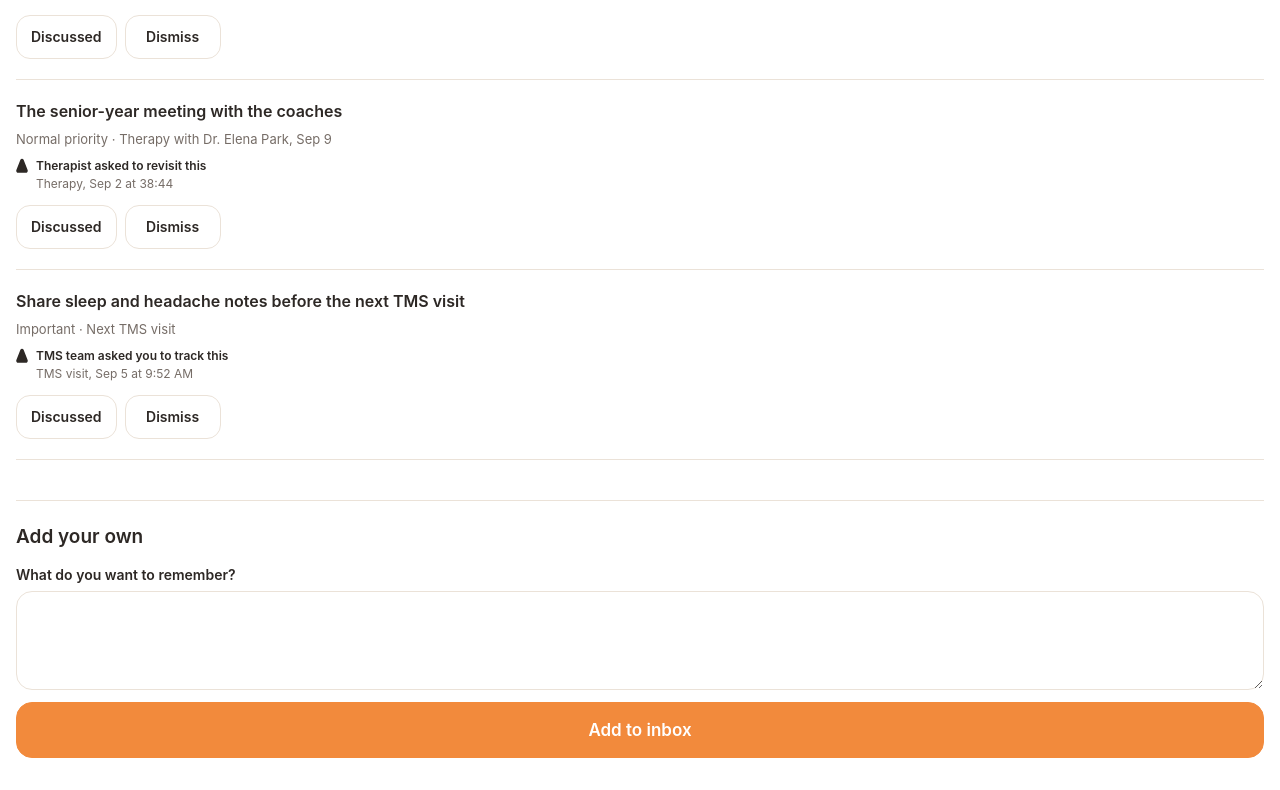
Test: BringUpScreen › adds one manual user item and prevents a duplicate entry form
This screenshot has width=1280, height=790.
(page scrolled)
Type "Ask whether exercise belongs in the plan" into the text box labelled "What do you want to remember?".
click(640, 640); type("Ask whether exercise belongs in the plan")  # box [16,590,1264,690]
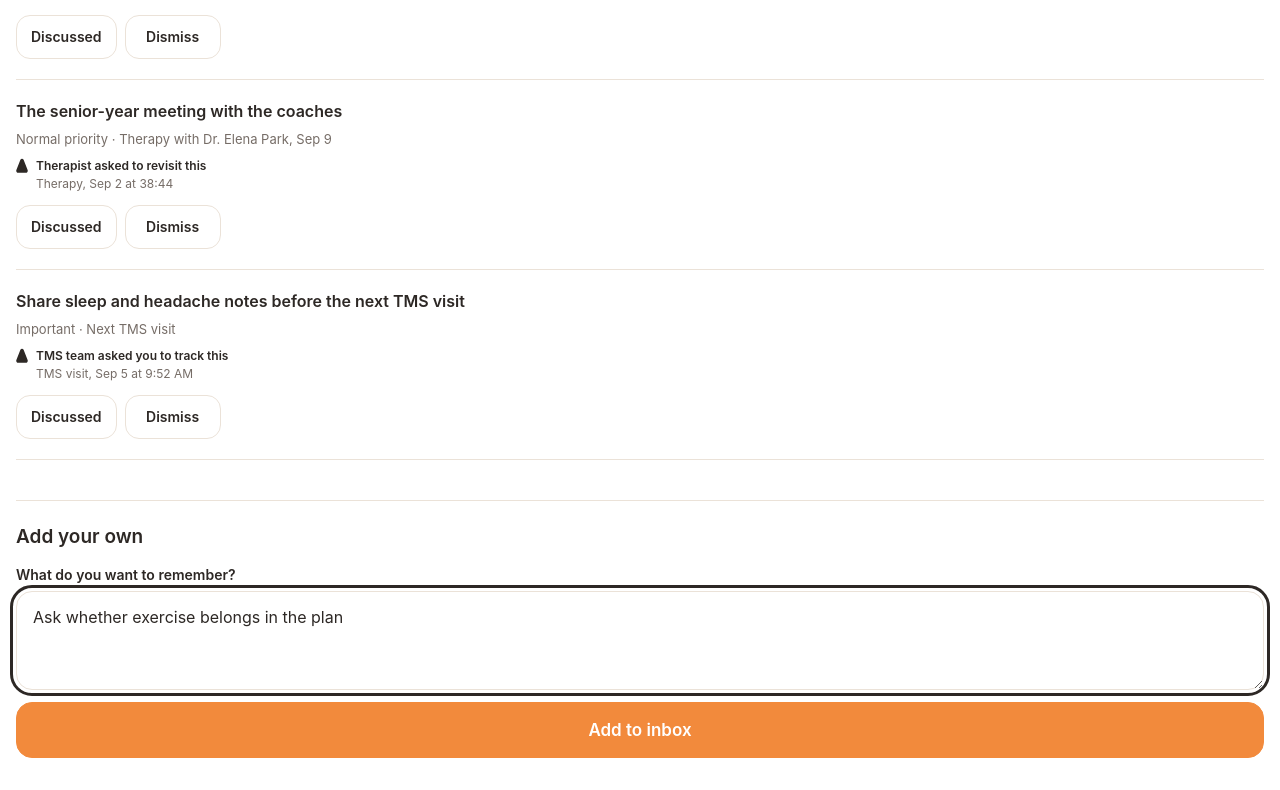
Click the button "Add to inbox".
click(640, 730)  # box [16,702,1264,758]
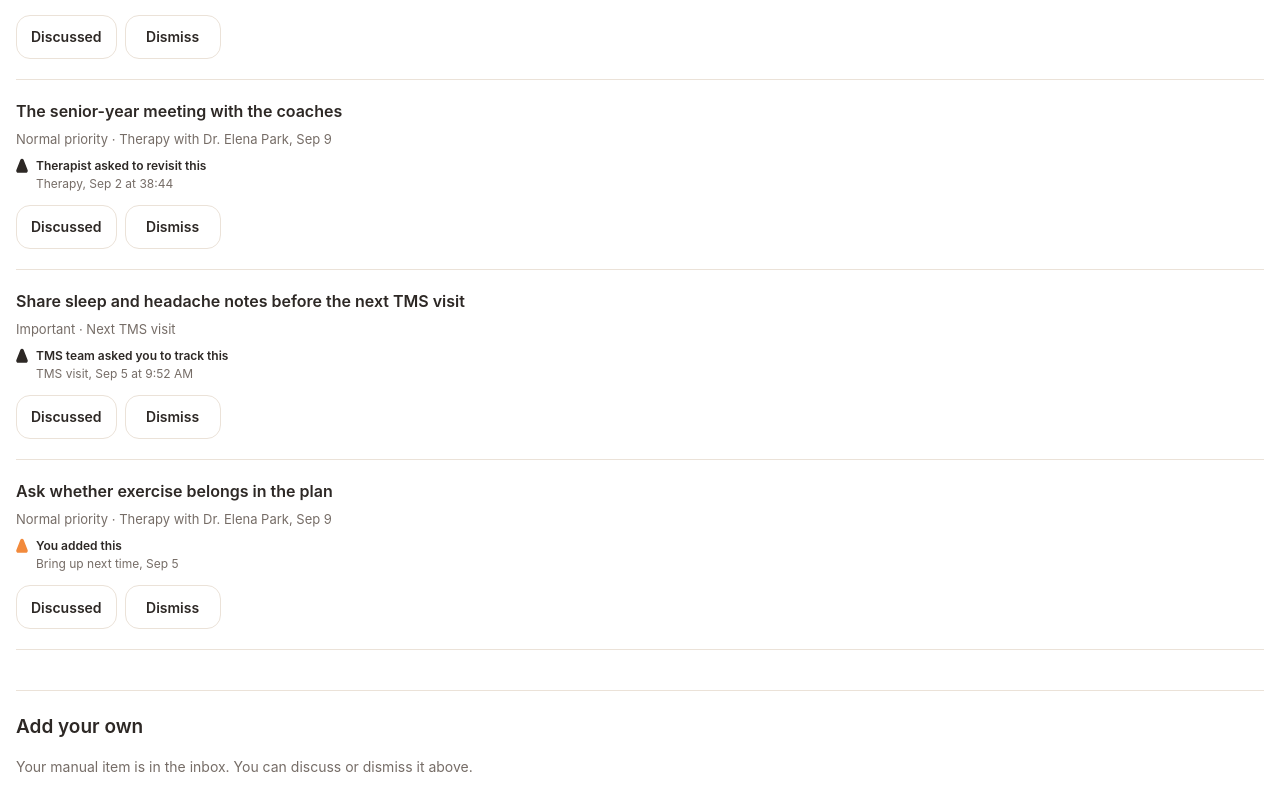
Expected: the text "Ask whether exercise belongs in the plan" is shown once, [16,481,333,501]
Expected: the text "You added this" is shown, [36,538,122,553]
Expected: the button "Add to inbox" is gone
